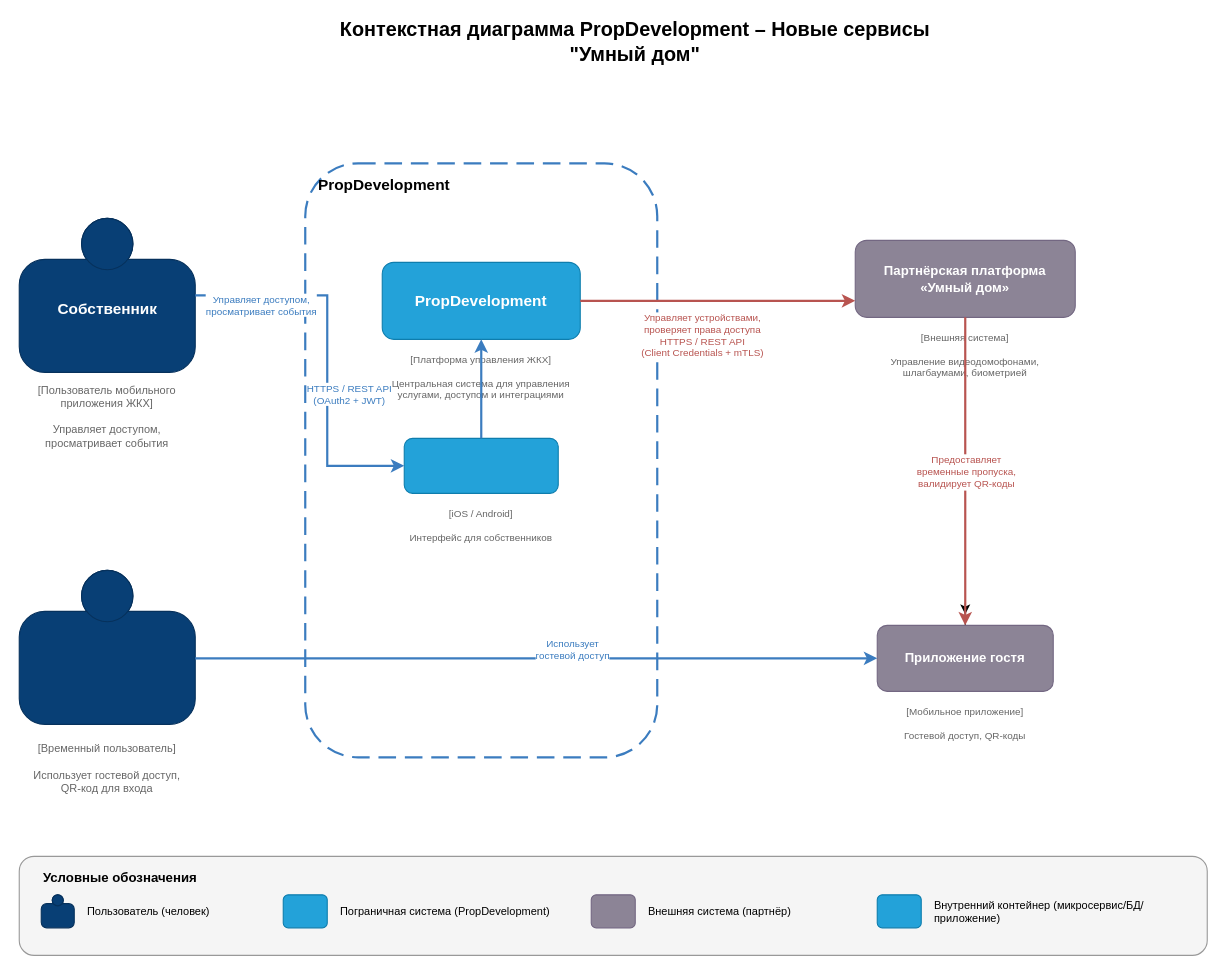
Image size: 1227x975. Some labels were removed from this diagram. The centre of each missing label's shape, as x and y in pixels:
"Жилец / Гость" belongs at point 106,646.
"Мобильное приложение" belongs at point 480,465.
